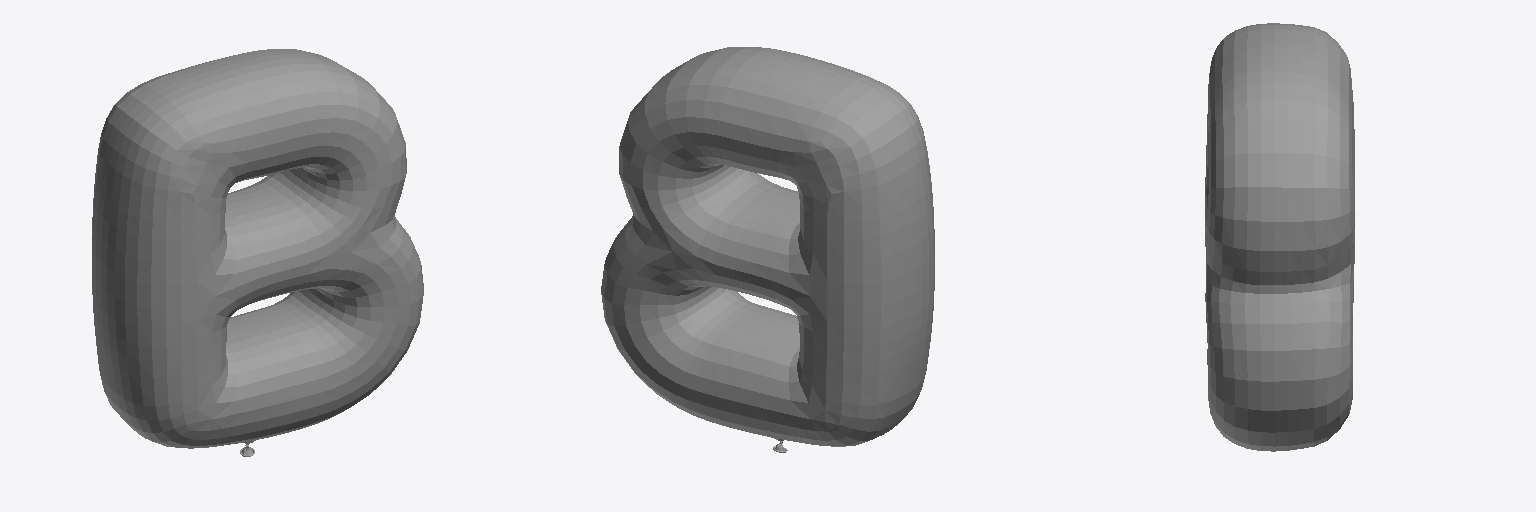
Rendered from balloonb.obj.
3 renders of one model, left to right at view 1: azimuth 30°, elevation 25°; view 2: azimuth 150°, elevation 25°; view 3: azimuth 270°, elevation 25°, orthographic.
Parts seen in each view (by area): view 1: Balloon_Alphabet_Subdivision_B_Alphabet_B; view 2: Balloon_Alphabet_Subdivision_B_Alphabet_B; view 3: Balloon_Alphabet_Subdivision_B_Alphabet_B.
Part boxes in pixels (left/top/right/bottom): Balloon_Alphabet_Subdivision_B_Alphabet_B: left=92, top=49, right=423, bottom=456; Balloon_Alphabet_Subdivision_B_Alphabet_B: left=601, top=47, right=934, bottom=452; Balloon_Alphabet_Subdivision_B_Alphabet_B: left=1205, top=23, right=1354, bottom=451.
Bounding box in the file's own units: 41.76 × 51.18 × 17.94.